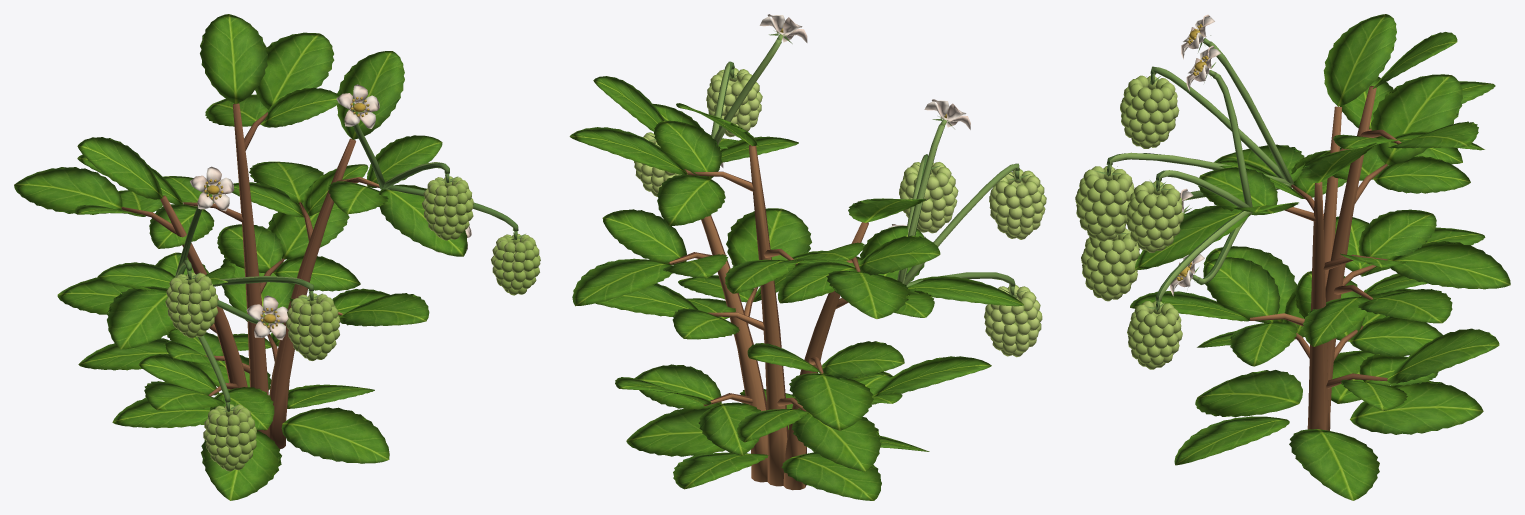
The model's file is NP_Raspberry_Flowering.fbx.
3 renders of one model, left to right at view 1: azimuth 30°, elevation 25°; view 2: azimuth 150°, elevation 25°; view 3: azimuth 270°, elevation 25°, orthographic. The views are drawn at different scales.
Visible parts, largest first — view 1: NP_Raspberry_Flowering; view 2: NP_Raspberry_Flowering; view 3: NP_Raspberry_Flowering.
Boxes of the visible parts, x1=… form: NP_Raspberry_Flowering: x1=14, y1=14, x2=540, y2=500; NP_Raspberry_Flowering: x1=569, y1=14, x2=1046, y2=500; NP_Raspberry_Flowering: x1=1075, y1=14, x2=1510, y2=500.
Size of the model in its own units: 91.47 by 86.82 by 79.67.
